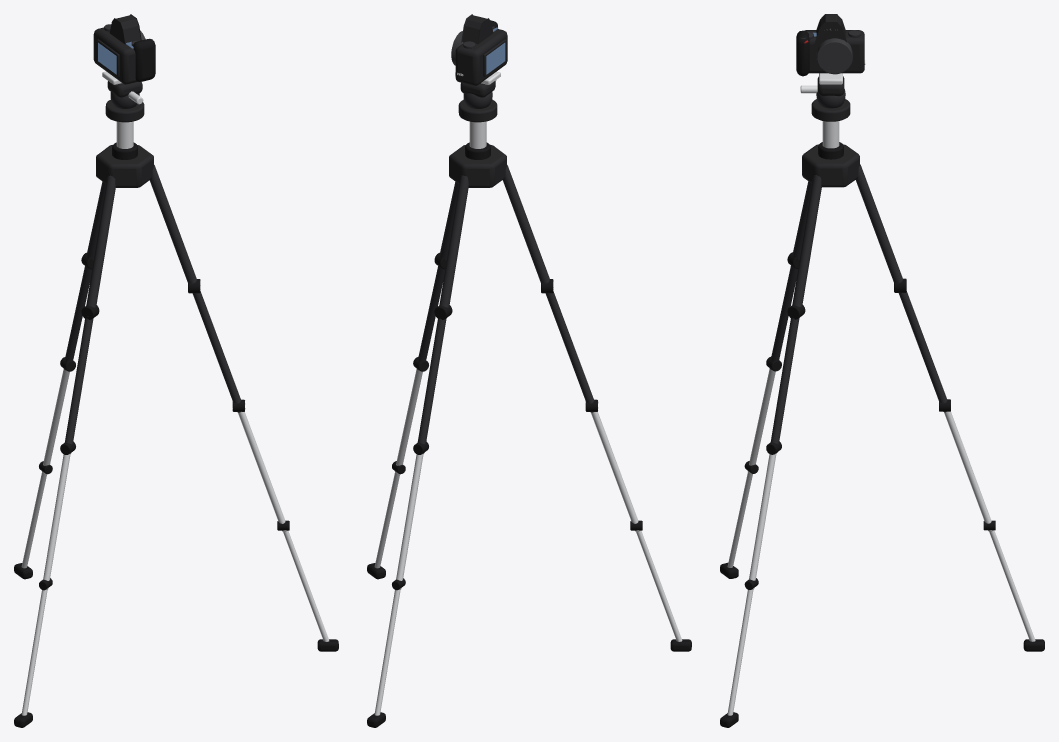
File: nikon_d850_tripie_foto.glb
3 renders of one model, left to right at view 1: azimuth 30°, elevation 25°; view 2: azimuth 150°, elevation 25°; view 3: azimuth 270°, elevation 25°, orthographic.
Parts seen in each view (by area): view 1: Nikon D850 en tripié de foto; view 2: Nikon D850 en tripié de foto; view 3: Nikon D850 en tripié de foto.
Part boxes in pixels (x1=…): Nikon D850 en tripié de foto: x1=14, y1=14, x2=338, y2=727; Nikon D850 en tripié de foto: x1=367, y1=14, x2=691, y2=727; Nikon D850 en tripié de foto: x1=720, y1=14, x2=1044, y2=727.
Bounding box in the file's own units: 0.7915 × 1.48 × 0.6873.
